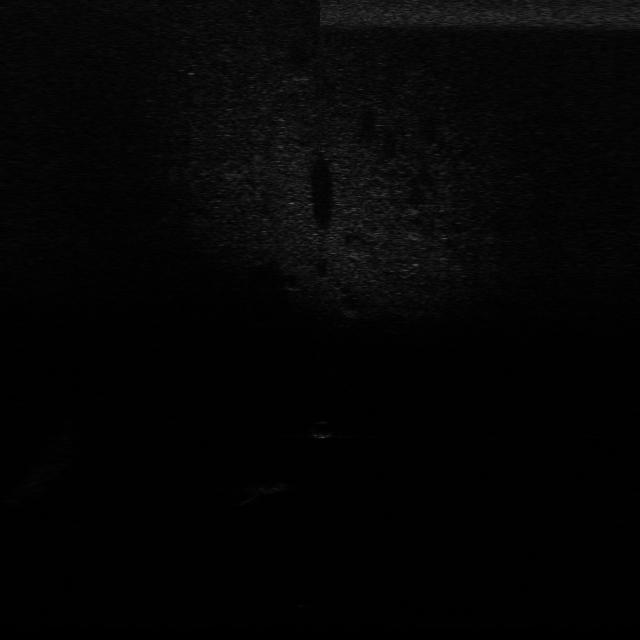ball: (308, 417, 338, 442)
square cage: (240, 476, 300, 498)
